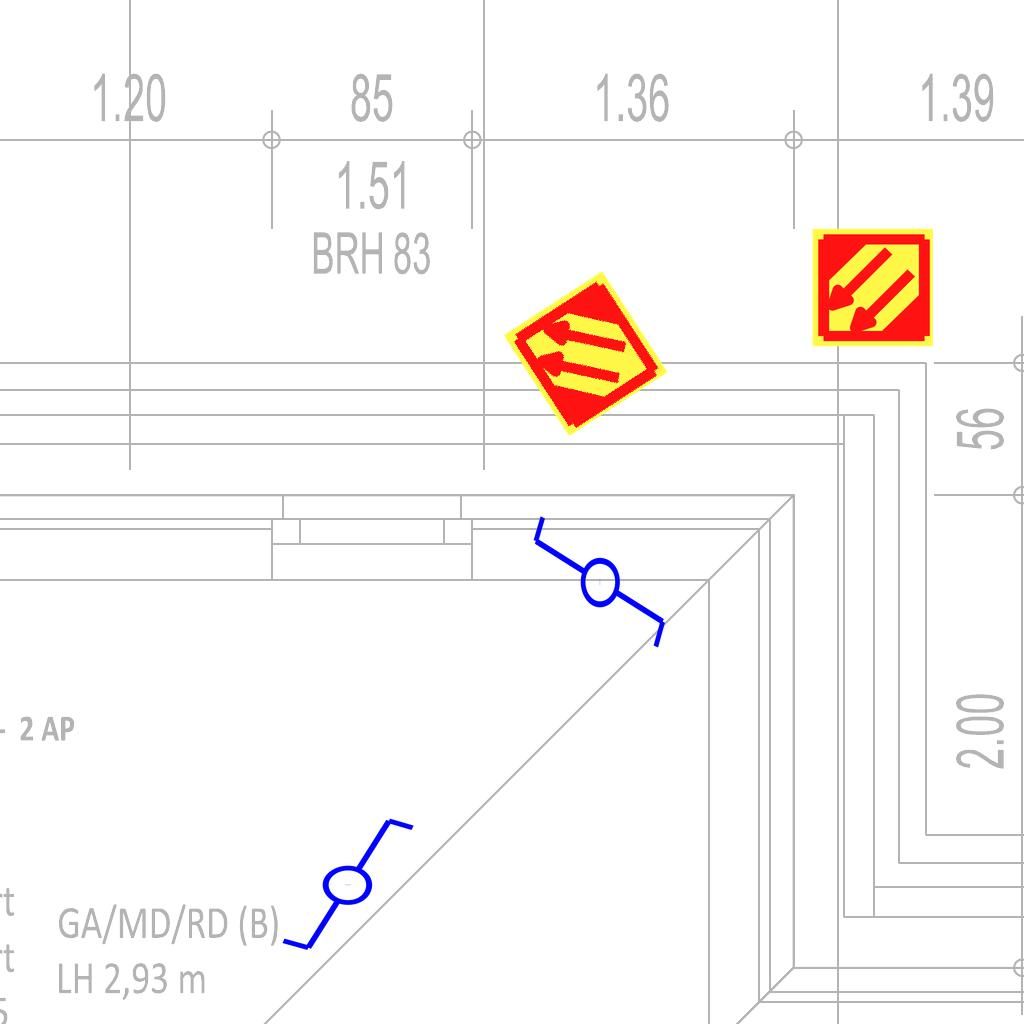ASR_Ansaugrauchmelder: (499, 267, 672, 440), (810, 225, 935, 350)
Wechselschalter: (526, 512, 670, 669), (261, 811, 418, 955)
